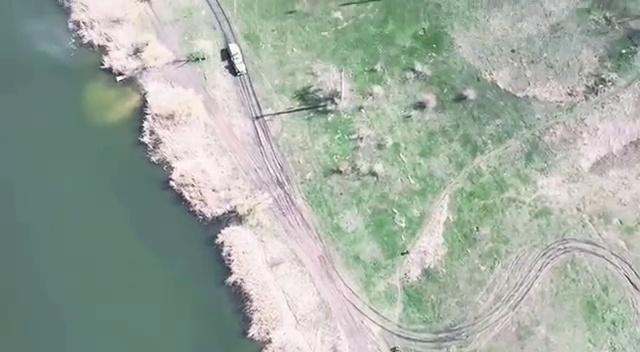person: (392, 344, 402, 352), (404, 248, 410, 254)
vehicle: (226, 42, 250, 77)
